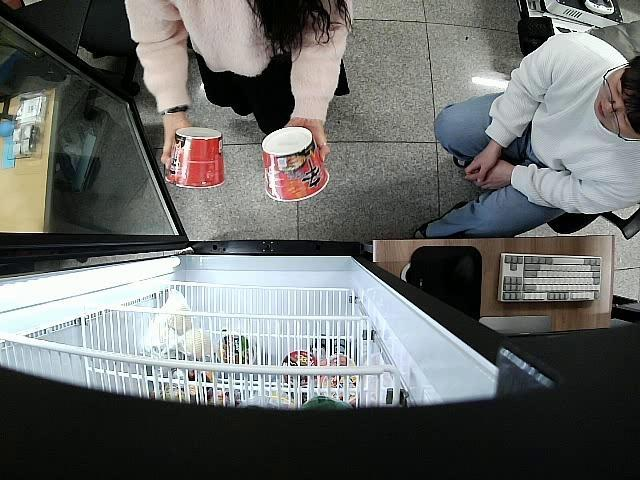01_ShinRamen_L: (262, 126, 331, 202), (166, 127, 225, 188)
